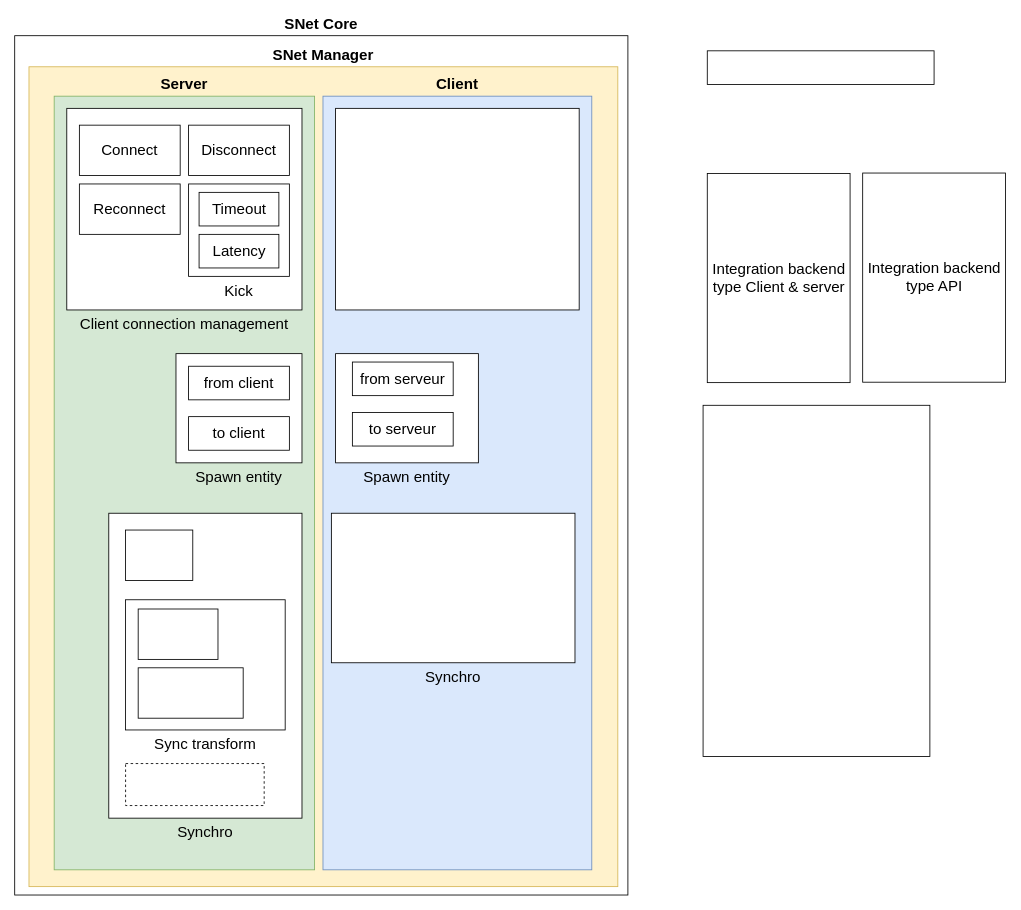
Image size: 1021x910. Some labels were removed from this diagram. Here are the shapes that lost their labels. From the top down, the centre of each, then its label:
the point at 820,67: SNet toolkit
the point at 457,209: Connection management
the point at 159,554: Sync état
the point at 816,580: Player
the point at 177,633: Prediction
the point at 190,692: Interpolation
the point at 194,784: World snapshot
